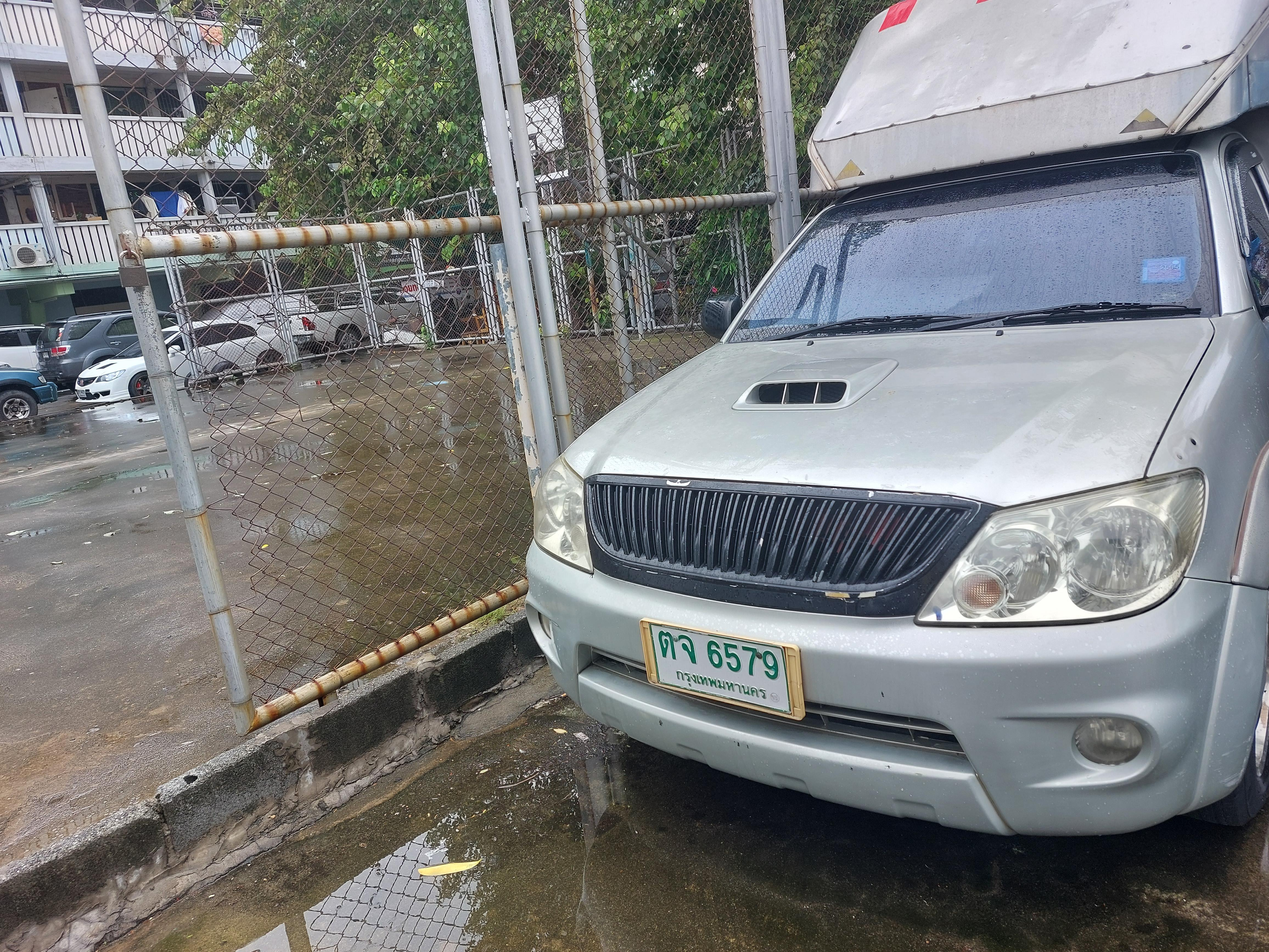license-plate: (637, 612, 811, 727)
